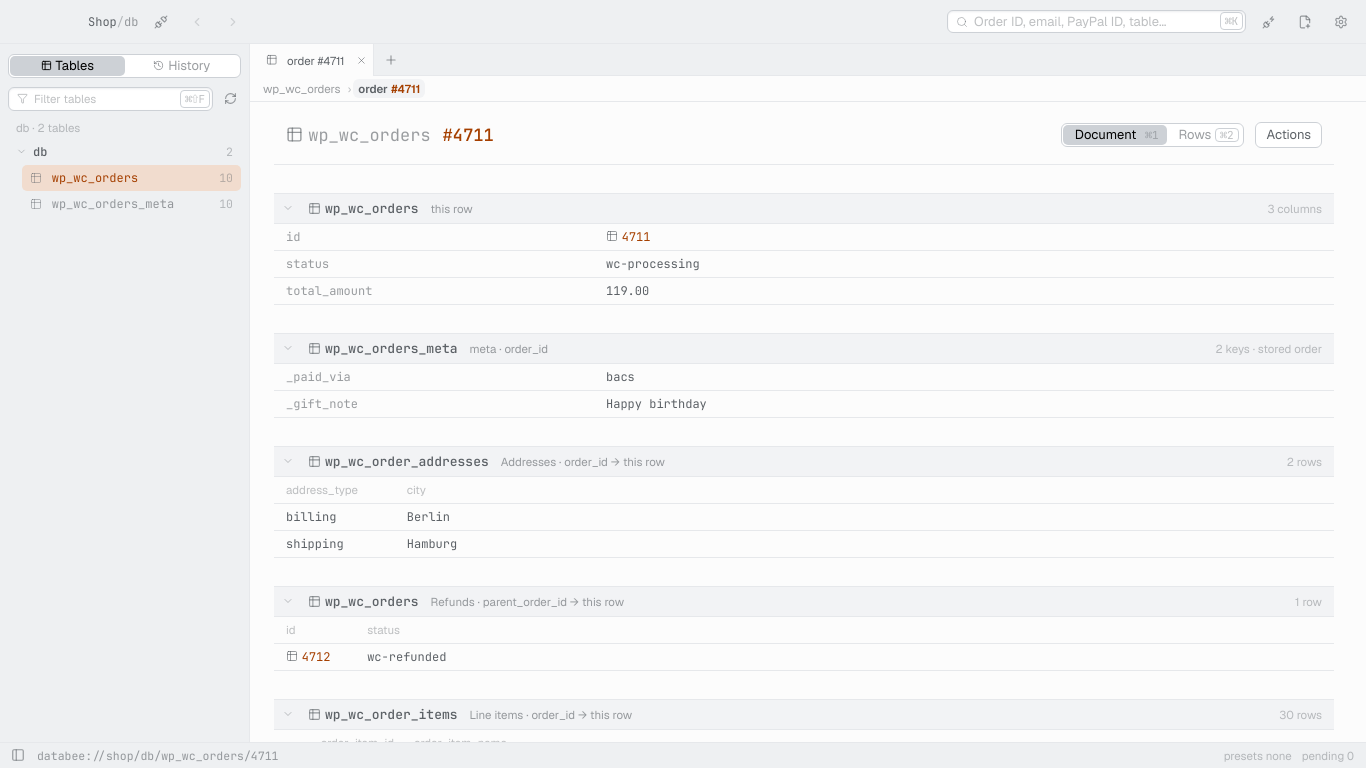
live mode and change marks › marks on values › flashes a changed value, keeps its old value next to it and marks its row
Expected: the element showing "db 2 wp_wc_orders 10 wp_wc_orders_meta 10" is shown, [16, 144, 241, 212]
Click the text "wc-processing" at (653, 264), box [603, 256, 703, 272]
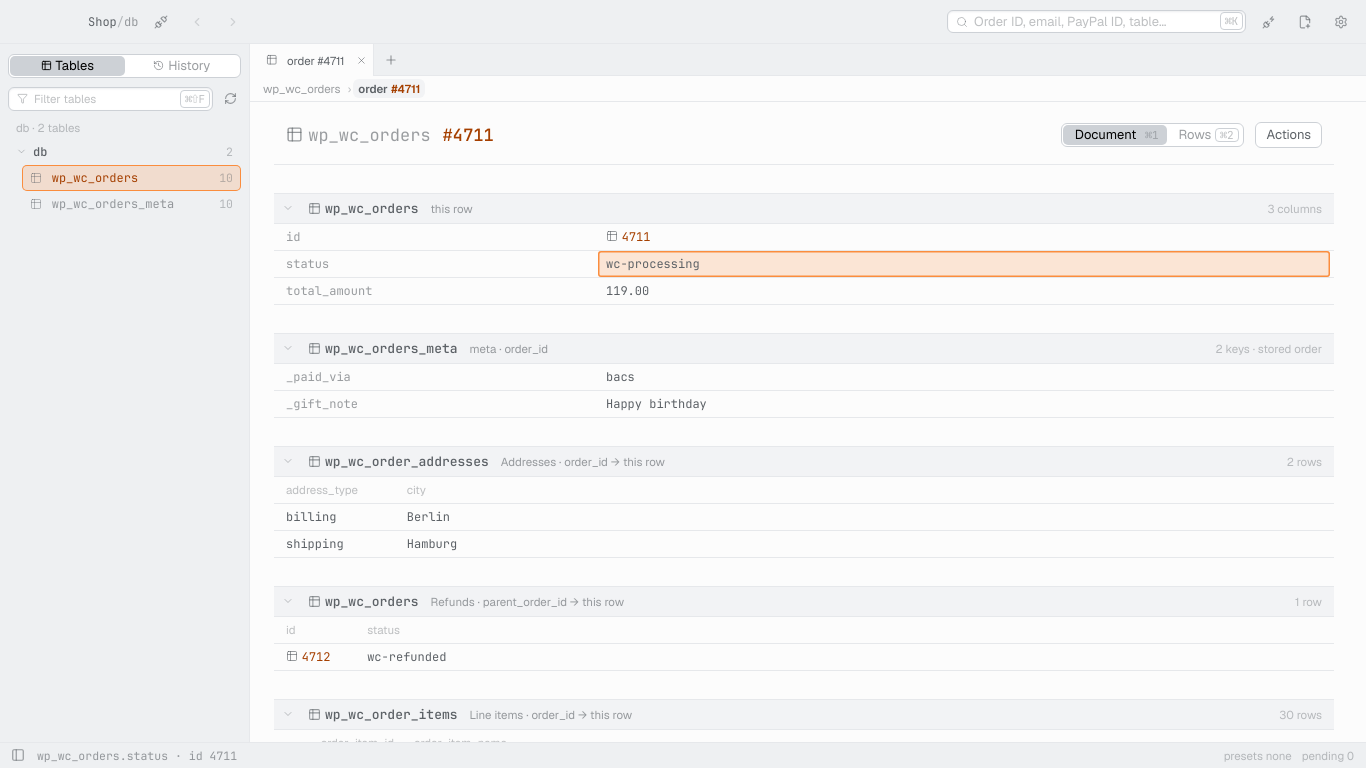
Type keys "w"
Wait 2000 ms
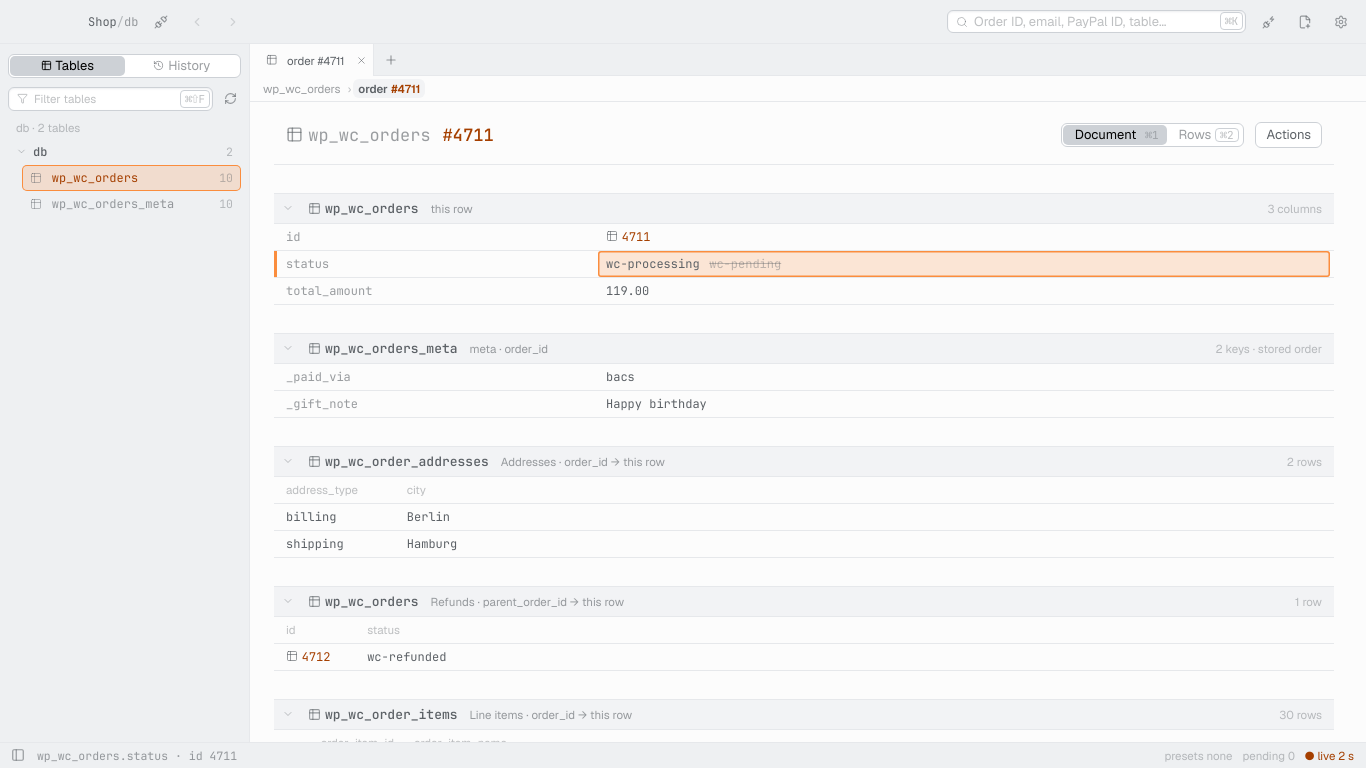
Expected: the text "wc-processing" is shown, [606, 256, 700, 272]
Now the button "● live 2 s" is shown, box [1305, 748, 1354, 763]
